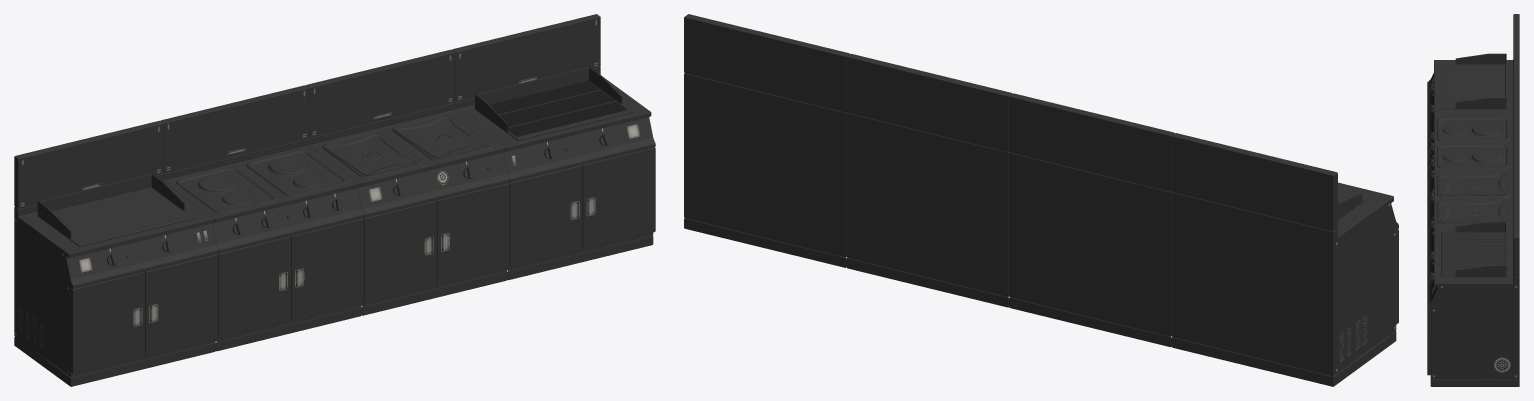
File: SM_Stove_01.FBX
3 views of the same model, side by side, from view 1: azimuth 30°, elevation 25°; view 2: azimuth 150°, elevation 25°; view 3: azimuth 270°, elevation 25° (orthographic). The views are drawn at different scales.
Parts seen in each view (by area): view 1: SM_Stove_01_LOD0; view 2: SM_Stove_01_LOD0; view 3: SM_Stove_01_LOD0.
Boxes of the visible parts, box(x1,y1,x2,y2) form: SM_Stove_01_LOD0: box(14, 14, 655, 386); SM_Stove_01_LOD0: box(684, 14, 1398, 386); SM_Stove_01_LOD0: box(1427, 14, 1519, 386).
Size of what is drawn, in the model's own units: 417 by 72.78 by 130.
